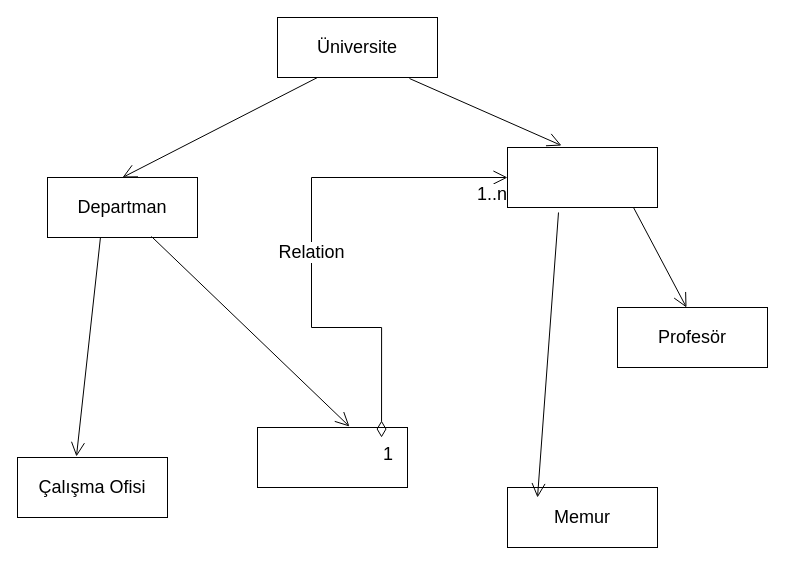
This 785x565 diagram has some shape labels left out. Each missing label, with the centre of its shape:
Sınıf: [332,457]
Çalışan: [582,177]
